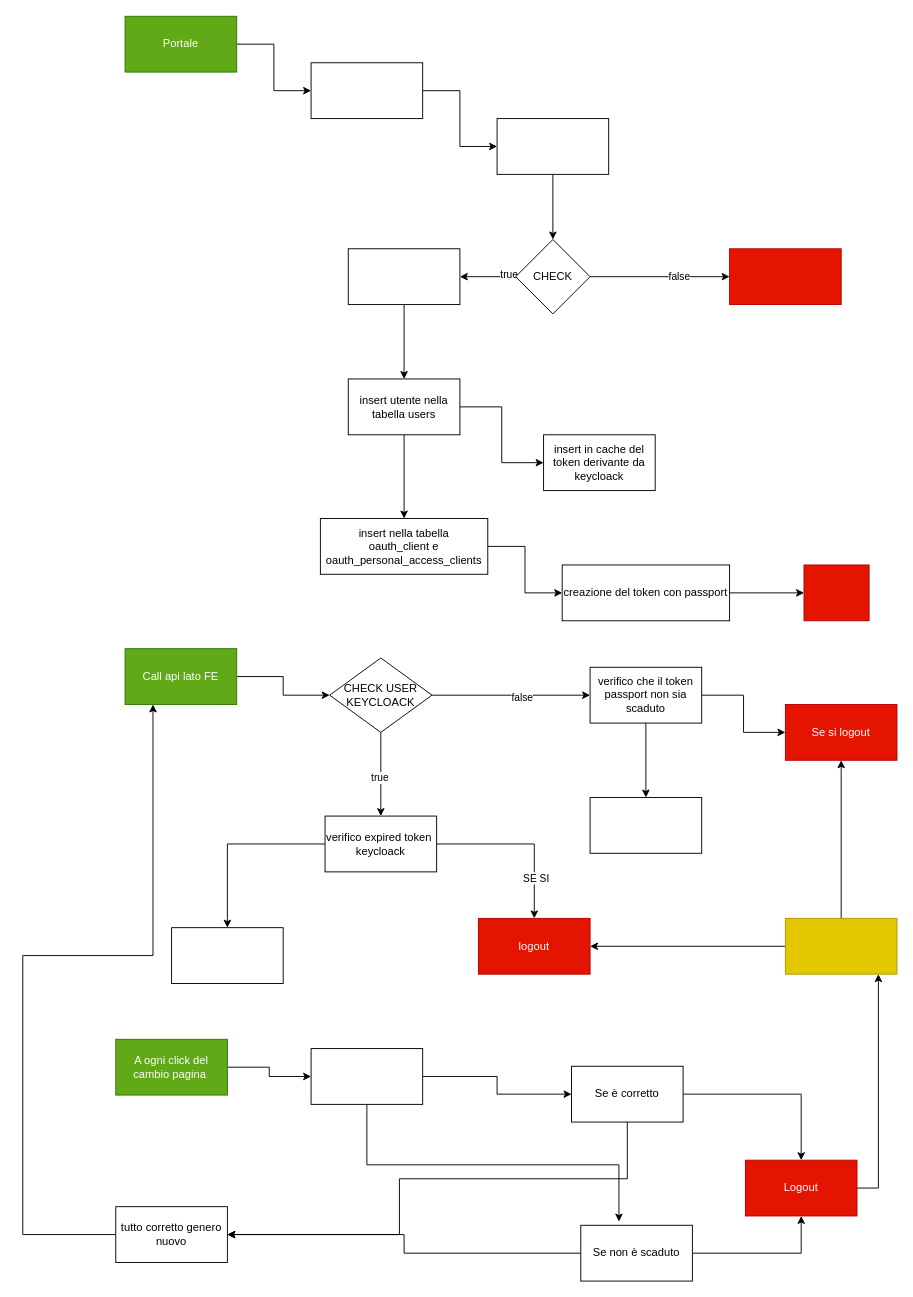
The diagram is 913 pixels wide and 1297 high, and some of its shapes have lost their labels. Here are the shapes that lost their labels. From the top down, the box of each, then its label:
(310, 62, 423, 119): Accesso con socio/operatore
(496, 118, 609, 174): link accesso RedHat
(347, 248, 460, 305): redirect portale
(729, 248, 841, 305): Errore
(803, 564, 869, 621): HOME
(589, 797, 702, 853): Se no contino
(171, 927, 283, 983): Se no continuo chiamata api
(784, 917, 897, 974): Change key secret di passport e cancellazione cache per quell'utenza
(310, 1048, 423, 1104): Refresh token
